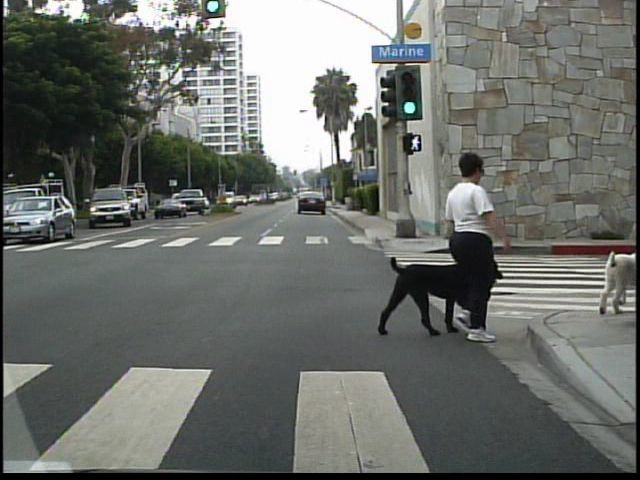person: (432, 146, 505, 346)
